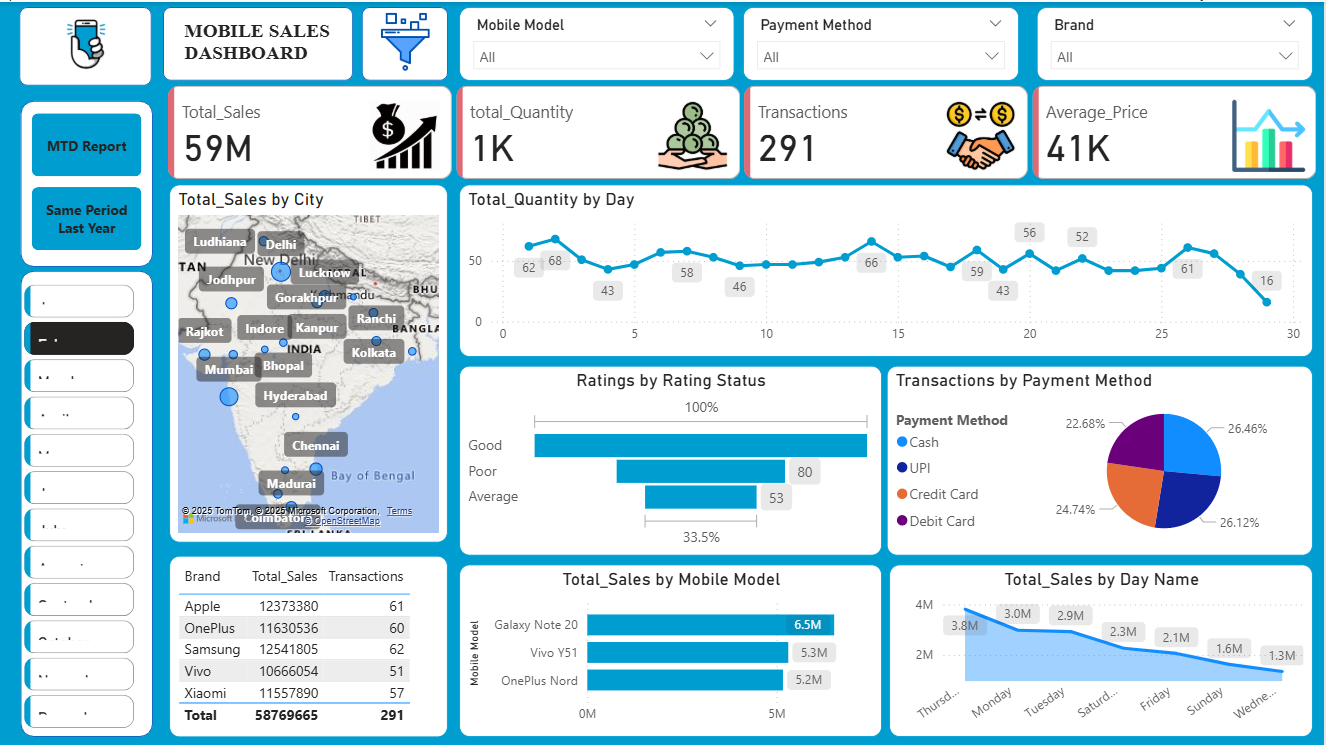

Layout of this report page (visuals, bound fields, positions):
{"tool":"powerbi","page":{"name":"Dashboard","canvas":[1280,720],"ordinal":0},"visuals":[{"type":"shape","box":[20.5,4.8,127.9,76],"z":0},{"type":"image","box":[49.5,4.8,71.2,71.2],"z":1000},{"type":"shape","box":[21.7,95.3,127.9,160.5],"z":2000},{"type":"shape","box":[21.7,259.4,127.9,450],"z":3000},{"type":"advancedSlicerVisual","fields":{"Values":["Custom_Calendar.Date.Variation.Date Hierarchy.Month"]},"box":[20.6,267.6,116.6,441.9],"z":4000},{"type":"cardVisual","fields":{"Data":["Sales_Analysis.Total_Sales","Sales_Analysis.total_Quantity","Sales_Analysis.Transactions","Sales_Analysis.Average_Price"]},"box":[159.3,76,1120.8,100.1],"z":5000},{"type":"slicer","fields":{"Values":["Sales_Analysis.Mobile Model"]},"box":[445.2,4.8,265.4,71.2],"z":6000},{"type":"slicer","fields":{"Values":["Sales_Analysis.Payment Method"]},"box":[719,4.8,266.6,71.2],"z":7000},{"type":"slicer","fields":{"Values":["Sales_Analysis.Brand"]},"box":[1002.6,4.8,266.6,71.2],"z":8000},{"type":"shape","box":[351.1,4.8,83.2,71.2],"z":9000},{"type":"image","box":[359.5,0,67.6,76],"z":10000},{"type":"shape","box":[159.3,4.8,183.4,71.2],"z":11000},{"type":"textbox","box":[174.9,12.1,150.8,56.7],"z":12000},{"type":"map","fields":{"Category":["Sales_Analysis.City"],"Size":["Sales_Analysis.Total_Sales"]},"box":[165.4,176.2,269,345.6],"z":13000},{"type":"lineChart","title":"Total_Quantity by Day","fields":{"Y":["Sales_Analysis.total_Quantity"],"Category":["Custom_Calendar.Date.Variation.Date Hierarchy.Day"]},"box":[445.2,176.1,824,166.5],"z":14000},{"type":"funnel","title":"Ratings by Rating Status","fields":{"Y":["CountNonNull(Sales_Analysis.Customer Ratings)"],"Category":["Sales_Analysis.Rating Status"]},"box":[445.2,351.1,407.8,183.4],"z":15000},{"type":"pieChart","fields":{"Category":["Sales_Analysis.Payment Method"],"Y":["Sales_Analysis.Transactions"]},"box":[858,351,411.5,182.9],"z":16000},{"type":"clusteredBarChart","fields":{"Y":["Sales_Analysis.Total_Sales"],"Category":["Sales_Analysis.Mobile Model"]},"box":[445.2,542.9,407.8,166.5],"z":17000},{"type":"areaChart","fields":{"Category":["Sales_Analysis.Day Name"],"Y":["Sales_Analysis.Total_Sales"]},"box":[860.7,543.3,408.8,166.8],"z":18000},{"type":"tableEx","fields":{"Values":["Sales_Analysis.Brand","Sales_Analysis.Total_Sales","Sales_Analysis.Transactions"]},"box":[165.4,533.9,269,174.8],"z":19000},{"type":"pageNavigator","box":[32.6,107.4,106.2,133.9],"z":20000}]}

Visuals, with their boxes in screenshot pixels (x1, y1, x2, y2), scaled from the page's 1280x720 canvas onto the 1326x745 screenshot:
shape: <region>21, 5, 154, 84</region>
image: <region>51, 5, 125, 79</region>
shape: <region>22, 99, 155, 265</region>
shape: <region>22, 268, 155, 734</region>
advancedSlicerVisual - Custom_Calendar.Date.Variation.Date Hierarchy.Month: <region>21, 277, 142, 734</region>
cardVisual - Sales_Analysis.Total_Sales x Sales_Analysis.total_Quantity: <region>165, 79, 1325, 182</region>
slicer - Sales_Analysis.Mobile Model: <region>461, 5, 736, 79</region>
slicer - Sales_Analysis.Payment Method: <region>745, 5, 1021, 79</region>
slicer - Sales_Analysis.Brand: <region>1039, 5, 1315, 79</region>
shape: <region>364, 5, 450, 79</region>
image: <region>372, 0, 442, 79</region>
shape: <region>165, 5, 355, 79</region>
textbox: <region>181, 13, 337, 71</region>
map - Sales_Analysis.City x Sales_Analysis.Total_Sales: <region>171, 182, 450, 540</region>
"Total_Quantity by Day" lineChart: <region>461, 182, 1315, 354</region>
"Ratings by Rating Status" funnel: <region>461, 363, 884, 553</region>
pieChart - Sales_Analysis.Payment Method x Sales_Analysis.Transactions: <region>889, 363, 1315, 552</region>
clusteredBarChart - Sales_Analysis.Total_Sales x Sales_Analysis.Mobile Model: <region>461, 562, 884, 734</region>
areaChart - Sales_Analysis.Day Name x Sales_Analysis.Total_Sales: <region>892, 562, 1315, 735</region>
tableEx - Sales_Analysis.Brand x Sales_Analysis.Total_Sales: <region>171, 552, 450, 733</region>
pageNavigator: <region>34, 111, 144, 250</region>
